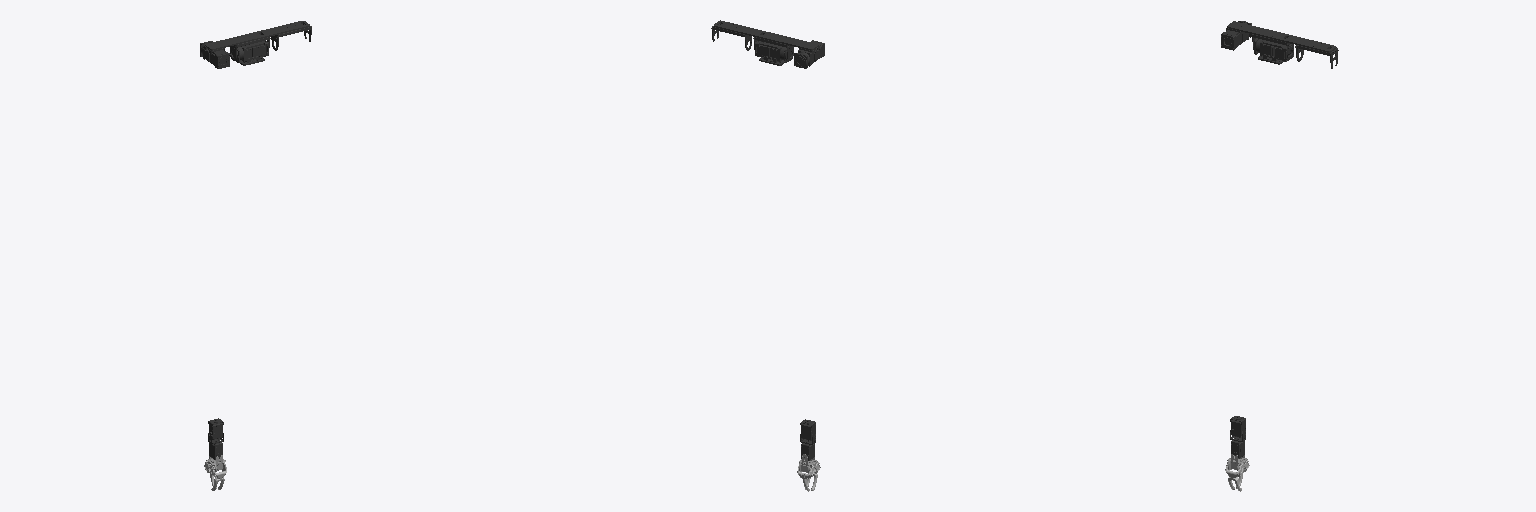
The robot description file, URDF, robot "kataude":
<?xml version="1.0" ?>
<!-- =================================================================================== -->
<!-- |    This document was autogenerated by xacro from kataude.xacro                  | -->
<!-- |    EDITING THIS FILE BY HAND IS NOT RECOMMENDED                                 | -->
<!-- =================================================================================== -->
<robot name="kataude">
  <material name="silver_default">
    <color rgba="0.700 0.700 0.700 1.000"/>
  </material>
  <material name="steel_satin">
    <color rgba="0.6274509803921569 0.6274509803921569 0.6274509803921569 1.0"/>
  </material>
  <material name="opaque696969">
    <color rgba="0.27058823529411763 0.27058823529411763 0.27058823529411763 1.0"/>
  </material>
  <material name="opaque191191191">
    <color rgba="0.7490196078431373 0.7490196078431373 0.7490196078431373 1.0"/>
  </material>
  <transmission name="ShoulderJoint2_tran">
    <type>transmission_interface/SimpleTransmission</type>
    <joint name="ShoulderJoint2">
      <hardwareInterface>hardware_interface/PositionJointInterface</hardwareInterface>
    </joint>
    <actuator name="ShoulderJoint2_actr">
      <hardwareInterface>hardware_interface/PositionJointInterface</hardwareInterface>
      <mechanicalReduction>1</mechanicalReduction>
    </actuator>
  </transmission>
  <transmission name="xm540_2_tran">
    <type>transmission_interface/SimpleTransmission</type>
    <joint name="xm540_2">
      <hardwareInterface>hardware_interface/PositionJointInterface</hardwareInterface>
    </joint>
    <actuator name="xm540_2_actr">
      <hardwareInterface>hardware_interface/PositionJointInterface</hardwareInterface>
      <mechanicalReduction>1</mechanicalReduction>
    </actuator>
  </transmission>
  <transmission name="xm540_3_tran">
    <type>transmission_interface/SimpleTransmission</type>
    <joint name="xm540_3">
      <hardwareInterface>hardware_interface/PositionJointInterface</hardwareInterface>
    </joint>
    <actuator name="xm540_3_actr">
      <hardwareInterface>hardware_interface/PositionJointInterface</hardwareInterface>
      <mechanicalReduction>1</mechanicalReduction>
    </actuator>
  </transmission>
  <transmission name="ShoulderJoint1_tran">
    <type>transmission_interface/SimpleTransmission</type>
    <joint name="ShoulderJoint1">
      <hardwareInterface>hardware_interface/PositionJointInterface</hardwareInterface>
    </joint>
    <!--
    <actuator name="ShoulderJoint1_actr">
      <hardwareInterface>hardware_interface/PositionJointInterface</hardwareInterface>
      <mechanicalReduction>1</mechanicalReduction>
    </actuator>
    -->
  </transmission>
  <transmission name="ElbowJoint_tran">
    <type>transmission_interface/SimpleTransmission</type>
    <joint name="ElbowJoint">
      <hardwareInterface>hardware_interface/PositionJointInterface</hardwareInterface>
    </joint>
    <actuator name="ElbowJoint_actr">
      <hardwareInterface>hardware_interface/PositionJointInterface</hardwareInterface>
      <mechanicalReduction>1</mechanicalReduction>
    </actuator>
  </transmission>
  <transmission name="xm540_1_tran">
    <type>transmission_interface/SimpleTransmission</type>
    <joint name="xm540_1">
      <hardwareInterface>hardware_interface/PositionJointInterface</hardwareInterface>
    </joint>
    <actuator name="xm540_1_actr">
      <hardwareInterface>hardware_interface/PositionJointInterface</hardwareInterface>
      <mechanicalReduction>1</mechanicalReduction>
    </actuator>
  </transmission>
  <transmission name="EndEffecter1_tran">
    <type>transmission_interface/SimpleTransmission</type>
    <joint name="EndEffecter1">
      <hardwareInterface>hardware_interface/PositionJointInterface</hardwareInterface>
    </joint>
    <actuator name="EndEffecter1_actr">
      <hardwareInterface>hardware_interface/PositionJointInterface</hardwareInterface>
      <mechanicalReduction>1</mechanicalReduction>
    </actuator>
  </transmission>
  <transmission name="EndEffecter2_tran">
    <type>transmission_interface/SimpleTransmission</type>
    <joint name="EndEffecter2">
      <hardwareInterface>hardware_interface/PositionJointInterface</hardwareInterface>
    </joint>
    <actuator name="EndEffecter2_actr">
      <hardwareInterface>hardware_interface/PositionJointInterface</hardwareInterface>
      <mechanicalReduction>1</mechanicalReduction>
    </actuator>
  </transmission>
  <gazebo>
    <plugin filename="libgazebo_ros_control.so" name="control">
      <robotNamespace>/kataude_controller</robotNamespace>
      <robotSimType>gazebo_ros_control/DefaultRobotHWSim</robotSimType>
      <legacyModeNS>true</legacyModeNS>
    </plugin>
  </gazebo>
  <gazebo reference="base_link">
    <material>Gazebo/Silver</material>
    <mu1>0.2</mu1>
    <mu2>0.2</mu2>
    <selfCollide>true</selfCollide>
    <gravity>true</gravity>
  </gazebo>
  <gazebo reference="UpperArm_1">
    <material>Gazebo/Silver</material>
    <mu1>0.2</mu1>
    <mu2>0.2</mu2>
    <selfCollide>true</selfCollide>
  </gazebo>
  <gazebo reference="XM540_270R__3_1">
    <material>Gazebo/Silver</material>
    <mu1>0.2</mu1>
    <mu2>0.2</mu2>
    <selfCollide>true</selfCollide>
  </gazebo>
  <gazebo reference="mikata_arm_1">
    <material>Gazebo/Silver</material>
    <mu1>0.2</mu1>
    <mu2>0.2</mu2>
    <selfCollide>true</selfCollide>
  </gazebo>
  <gazebo reference="Shoulder_Servo3_1">
    <material>Gazebo/Silver</material>
    <mu1>0.2</mu1>
    <mu2>0.2</mu2>
    <selfCollide>true</selfCollide>
  </gazebo>
  <gazebo reference="ForeArm_1">
    <material>Gazebo/Silver</material>
    <mu1>0.2</mu1>
    <mu2>0.2</mu2>
    <selfCollide>true</selfCollide>
  </gazebo>
  <gazebo reference="XM540_270R_2_1">
    <material>Gazebo/Silver</material>
    <mu1>0.2</mu1>
    <mu2>0.2</mu2>
    <selfCollide>true</selfCollide>
  </gazebo>
  <gazebo reference="gripper1_1">
    <material>Gazebo/Silver</material>
    <mu1>0.2</mu1>
    <mu2>0.2</mu2>
    <selfCollide>true</selfCollide>
  </gazebo>
  <gazebo reference="gripper2_1">
    <material>Gazebo/Silver</material>
    <mu1>0.2</mu1>
    <mu2>0.2</mu2>
    <selfCollide>true</selfCollide>
  </gazebo>
  <!-- <link name="dummy">
   </link> -->
  <link name="world"/>
  <link name="base_link">
    <inertial>
      <origin rpy="0 0 0" xyz="-0.15278443948564172 -1.646071389736825e-05 1.9943676527636152"/>
      <!-- <mass value="3.145965262261491"/> -->
      <mass value="1000000"/>
      <inertia ixx="0.001806" ixy="-0.0" ixz="4e-06" iyy="0.005212" iyz="0.0" izz="0.004982"/>
    </inertial>
    <visual>
      <origin rpy="0 0 0" xyz="0 0 0"/>
      <geometry>
        <mesh filename="package://kataude_description/meshes/base_link.stl" scale="0.001 0.001 0.001"/>
      </geometry>
      <material name="opaque696969"/>
    </visual>
    <collision>
      <origin rpy="0 0 0" xyz="0 0 0"/>
      <geometry>
        <mesh filename="package://kataude_description/meshes/base_link.stl" scale="0.001 0.001 0.001"/>
      </geometry>
    </collision>
  </link>
  
  <link name="UpperArm_1">
    <inertial>
      <origin rpy="0 0 0" xyz="2.3936065328189482e-05 0.06873152009023258 -0.3984141268400523"/>
      <mass value="1.4251149550389982"/>
      <!-- <mass value="1425.1149550389982"/> -->
      <inertia ixx="5.64702" ixy="-0.0" ixz="2.8e-05" iyy="5.488361" iyz="-0.000188" izz="0.635098"/>
    </inertial>
    <visual>
      <origin rpy="0 0 0" xyz="0.3025 0.06899 -2.01652"/>
      <geometry>
        <mesh filename="package://kataude_description/meshes/UpperArm_1.stl" scale="0.001 0.001 0.001"/>
      </geometry>
      <material name="steel_satin"/>
    </visual>
    <collision>
      <origin rpy="0 0 0" xyz="0.3025 0.06899 -2.01652"/>
      <geometry>
        <mesh filename="package://kataude_description/meshes/UpperArm_1.stl" scale="0.001 0.001 0.001"/>
      </geometry>
    </collision>
  </link>

  <link name="XM540_270R__3_1">
    <inertial>
      <origin rpy="0 0 0" xyz="0.024533563447407203 -0.00021381174077944674 -0.0631193250864"/>
      <!-- <mass value="0.09824516357620273"/> -->
      <mass value="0.164"/>
      <inertia ixx="6.2e-05" ixy="-0.0" ixz="-2e-06" iyy="5.8e-05" iyz="-0.0" izz="2.8e-05"/>
    </inertial>
    <visual>
      <origin rpy="0 0 0" xyz="0.321809 0.000911 -0.457908"/>
      <geometry>
        <mesh filename="package://kataude_description/meshes/XM540_270R__3_1.stl" scale="0.001 0.001 0.001"/>
      </geometry>
      <material name="opaque696969"/>
    </visual>
    <collision>
      <origin rpy="0 0 0" xyz="0.321809 0.000911 -0.457908"/>
      <geometry>
        <mesh filename="package://kataude_description/meshes/XM540_270R__3_1.stl" scale="0.001 0.001 0.001"/>
      </geometry>
    </collision>
  </link>
  <link name="mikata_arm_1">
    <inertial>
      <origin rpy="0 0 0" xyz="-9.00741698207086e-05 -0.02460604325871079 -0.04241777280246267"/>
      <!-- <mass value="0.5291067052461904"/> -->
      <mass value="0.164"/>
      <inertia ixx="0.000219" ixy="-1e-06" ixz="-0.0" iyy="0.00018" iyz="-6e-06" izz="0.000224"/>
    </inertial>
    <visual>
      <origin rpy="0 0 0" xyz="0.297625 -0.025704 -0.374375"/>
      <geometry>
        <mesh filename="package://kataude_description/meshes/mikata_arm_1.stl" scale="0.001 0.001 0.001"/>
      </geometry>
      <material name="steel_satin"/>
    </visual>
    <collision>
      <origin rpy="0 0 0" xyz="0.297625 -0.025704 -0.374375"/>
      <geometry>
        <mesh filename="package://kataude_description/meshes/mikata_arm_1.stl" scale="0.001 0.001 0.001"/>
      </geometry>
    </collision>
  </link>
  <link name="Shoulder_Servo3_1">
    <inertial>
      <origin rpy="0 0 0" xyz="-0.001267246990176496 0.00020718172021483958 0.029980098166622282"/>
      <!-- <mass value="4.659806299364297"/> -->
      <mass value="1.659806299364297"/> 
      <inertia ixx="0.006381" ixy="7.7e-05" ixz="-0.006229" iyy="0.074421" iyz="1.2e-05" izz="0.076997"/>
    </inertial>
    <visual>
      <origin rpy="0 0 0" xyz="0.2215 2e-05 -1.99849"/>
      <geometry>
        <mesh filename="package://kataude_description/meshes/Shoulder_Servo3_1.stl" scale="0.001 0.001 0.001"/>
      </geometry>
      <material name="opaque696969"/>
    </visual>
    <collision>
      <origin rpy="0 0 0" xyz="0.2215 2e-05 -1.99849"/>
      <geometry>
        <mesh filename="package://kataude_description/meshes/Shoulder_Servo3_1.stl" scale="0.001 0.001 0.001"/>
      </geometry>
    </collision>
  </link>
  <link name="ForeArm_1">
    <inertial>
      <origin rpy="0 0 0" xyz="0.00010929466551301559 0.06821266521028407 -0.3727168964631816"/>
      <!-- <mass value="131.66138695773583"/> -->
      <mass value="1.3166138695773583"/>
      <inertia ixx="4.458919" ixy="0.0" ixz="-0.000184" iyy="4.313539" iyz="-0.00075" izz="0.590679"/>
    </inertial>
    <visual>
      <origin rpy="0 0 0" xyz="0.302466 0.069082 -1.250541"/>
      <geometry>
        <mesh filename="package://kataude_description/meshes/ForeArm_1.stl" scale="0.001 0.001 0.001"/>
      </geometry>
      <material name="steel_satin"/>
    </visual>
    <collision>
      <origin rpy="0 0 0" xyz="0.302466 0.069082 -1.250541"/>
      <geometry>
        <mesh filename="package://kataude_description/meshes/ForeArm_1.stl" scale="0.001 0.001 0.001"/>
      </geometry>
    </collision>
  </link>
  <link name="XM540_270R_2_1">
    <inertial>
      <origin rpy="0 0 0" xyz="-0.0002450048864300891 2.0149603131389355e-05 -0.03209129443533182"/>
      <!-- <mass value="0.09211846580456283"/> -->
      <mass value="0.170"/>
      <inertia ixx="3.9e-05" ixy="0.0" ixz="-0.0" iyy="4.6e-05" iyz="-0.0" izz="2.4e-05"/>
    </inertial>
    <visual>
      <origin rpy="0 0 0" xyz="0.297326 0.000884 -0.507317"/>
      <geometry>
        <mesh filename="package://kataude_description/meshes/XM540_270R_2_1.stl" scale="0.001 0.001 0.001"/>
      </geometry>
      <material name="opaque696969"/>
    </visual>
    <collision>
      <origin rpy="0 0 0" xyz="0.297326 0.000884 -0.507317"/>
      <geometry>
        <mesh filename="package://kataude_description/meshes/XM540_270R_2_1.stl" scale="0.001 0.001 0.001"/>
      </geometry>
    </collision>
  </link>
  <link name="gripper1_1">
    <inertial>
      <origin rpy="0 0 0" xyz="-0.019092930378784956 -0.008786732838234303 -0.03526207180079688"/>
      <mass value="0.27970437781382335"/>
      <inertia ixx="0.0003" ixy="0.0" ixz="1e-06" iyy="0.000362" iyz="2.3e-05" izz="0.000133"/>
    </inertial>
    <visual>
      <origin rpy="0 0 0" xyz="0.280651 0.018105 -0.328133"/>
      <geometry>
        <mesh filename="package://kataude_description/meshes/gripper1_1.stl" scale="0.001 0.001 0.001"/>
      </geometry>
      <material name="opaque191191191"/>
    </visual>
    <collision>
      <origin rpy="0 0 0" xyz="0.280651 0.018105 -0.328133"/>
      <geometry>
        <mesh filename="package://kataude_description/meshes/gripper1_1.stl" scale="0.001 0.001 0.001"/>
      </geometry>
    </collision>
  </link>
  <link name="gripper2_1">
    <inertial>
      <origin rpy="0 0 0" xyz="-0.01899942595107912 0.009210263060438971 -0.027914083411589796"/>
      <mass value="0.27970437781382335"/>
      <inertia ixx="0.000199" ixy="-0.0" ixz="-0.0" iyy="0.000246" iyz="-8e-06" izz="0.000104"/>
    </inertial>
    <visual>
      <origin rpy="0 0 0" xyz="0.280651 -0.013895 -0.328133"/>
      <geometry>
        <mesh filename="package://kataude_description/meshes/gripper2_1.stl" scale="0.001 0.001 0.001"/>
      </geometry>
      <material name="opaque191191191"/>
    </visual>
    <collision>
      <origin rpy="0 0 0" xyz="0.280651 -0.013895 -0.328133"/>
      <geometry>
        <mesh filename="package://kataude_description/meshes/gripper2_1.stl" scale="0.001 0.001 0.001"/>
      </geometry>
    </collision>
  </link>
  <!-- <joint name="dummy_joint" type="fixed">
     <parent link="dummy"/>
     <child link="base_link"/>
   </joint> -->
  <joint name="world_joint" type="fixed">
    <parent link="world"/>
    <child link="base_link"/>
    <origin rpy="0 0 0" xyz="0 0 0"/>
  </joint>
  <joint name="ShoulderJoint1" type="revolute">
    <origin rpy="0 0 0" xyz="-0.2215 -2e-05 1.99849"/>
    <parent link="base_link"/>
    <child link="Shoulder_Servo3_1"/>
    <axis xyz="1.0 -0.0 -0.0"/>
    <limit effort="100" lower="-1.570796" upper="1.570796" velocity="100"/>
  </joint>
  <joint name="ShoulderJoint2" type="revolute">
    <origin rpy="0 0 0" xyz="-0.081 -0.06897 0.01803"/>
    <parent link="Shoulder_Servo3_1"/>
    <child link="UpperArm_1"/>
    <axis xyz="0.0 1.0 0.0"/>
    <limit effort="100" lower="0.0" upper="3.141593" velocity="100"/>
  </joint>
  <!--
<transmission name="ShoulderJoint2_trans">
    <type>transmission_interface/SimpleTransmission</type>
    <joint name="ShoulderJoint2">
      <hardwareInterface>hardware_interface/PositionJointInterface</hardwareInterface>
    </joint>
    <actuator name="ShoulderJoint2_motor">
       <hardwareInterface>hardware_interface/PositionJointInterface</hardwareInterface>
       <mechanismReduction>1</mechanismReduction>
    </actuator>
</transmission>
-->
  <joint name="ElbowJoint" type="revolute">
    <origin rpy="0 0 0" xyz="3.4e-05 -9.2e-05 -0.765979"/>
    <parent link="UpperArm_1"/>
    <child link="ForeArm_1"/>
    <axis xyz="-0.0 1.0 0.0"/>
    <limit effort="100" lower="-1.570796" upper="1.570796" velocity="100"/>
  </joint>
  <joint name="xm540_1" type="continuous">
    <origin rpy="0 0 0" xyz="0.00514 0.068198 -0.743224"/>
    <parent link="ForeArm_1"/>
    <child link="XM540_270R_2_1"/>
    <axis xyz="0.0 -0.0 -1.0"/>
    <dynamics damping="0.1"/>
  </joint>
  <joint name="xm540_2" type="revolute">
    <origin rpy="0 0 0" xyz="-0.024483 -2.7e-05 -0.049409"/>
    <parent link="XM540_270R_2_1"/>
    <child link="XM540_270R__3_1"/>
    <axis xyz="1.0 0.0 0.0"/>
    <limit effort="100" lower="-1.570796" upper="1.570796" velocity="100"/>
    <dynamics damping="0.1"/>    
  </joint>
  <joint name="xm540_3" type="revolute">
    <origin rpy="0 0 0" xyz="0.024184 0.026615 -0.083533"/>
    <parent link="XM540_270R__3_1"/>
    <child link="mikata_arm_1"/>
    <axis xyz="-0.0 1.0 -0.0"/>
    <limit effort="100" lower="-1.570796" upper="1.570796" velocity="100"/>
    <dynamics damping="0.1"/>        
  </joint>
  <joint name="EndEffecter1" type="revolute">
    <origin rpy="0 0 0" xyz="0.016974 -0.043809 -0.046242"/>
    <parent link="mikata_arm_1"/>
    <child link="gripper1_1"/>
    <axis xyz="1.0 0.0 0.0"/>
    <limit effort="100" lower="-1.047198" upper="0.0" velocity="100"/>
  </joint>
  <joint name="Endeffecter2" type="revolute">
    <origin rpy="0 0 0" xyz="0.016974 -0.011809 -0.046242"/>
    <parent link="mikata_arm_1"/>
    <child link="gripper2_1"/>
    <axis xyz="1.0 0.0 0.0"/>
    <limit effort="100" lower="0.0" upper="1.047198" velocity="100"/>
  </joint>
</robot>

--- Render facts (derived) ---
The picture shows the robot from 3 angles, left to right: view 1: azimuth 30°, elevation 25°; view 2: azimuth 150°, elevation 25°; view 3: azimuth 330°, elevation 25°; orthographic projection.
Model kataude with 10 links and 9 joints (7 revolute, 1 continuous, 1 fixed), rooted at world, posed all joints at 0.
Visible links, largest first — view 1: Shoulder_Servo3_1, base_link; view 2: Shoulder_Servo3_1, base_link; view 3: Shoulder_Servo3_1, base_link.
Link boxes in pixels (left/top/right/bottom): Shoulder_Servo3_1: left=200, top=21, right=311, bottom=68; base_link: left=232, top=41, right=268, bottom=65; Shoulder_Servo3_1: left=711, top=20, right=824, bottom=68; base_link: left=755, top=41, right=791, bottom=65; Shoulder_Servo3_1: left=1221, top=21, right=1338, bottom=68; base_link: left=1253, top=38, right=1293, bottom=64.
Size in the robot's own frame: 0.435 by 0.138 by 1.83 metres.
7 mesh visuals loaded from 9 distinct referenced files (7 binary STL); not drawn: 2 (reference not matched to a file when rendering).
